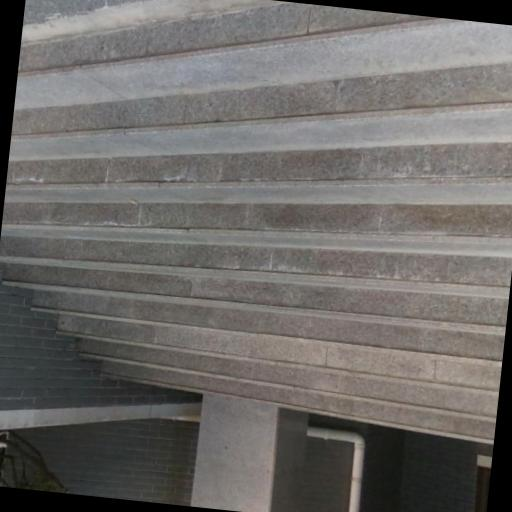stairs: (0, 2, 511, 441)
